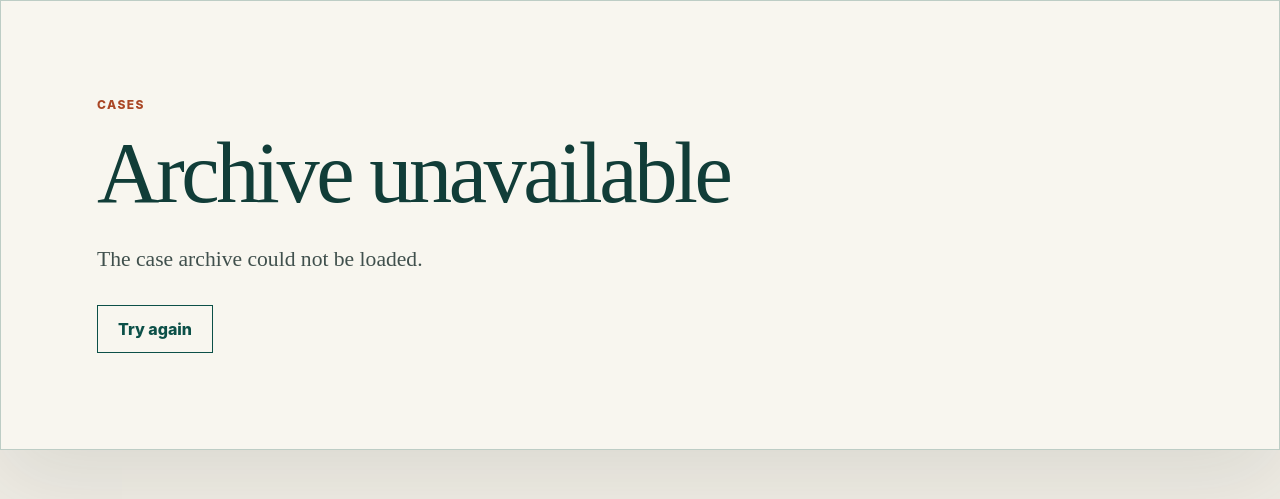
Test: CasesPage › shows error state and retries on failure
Expected: the heading "Archive unavailable" is shown, [97,125,729,221]
Click the button "Try again" at (155, 329), box [97,305,213,353]
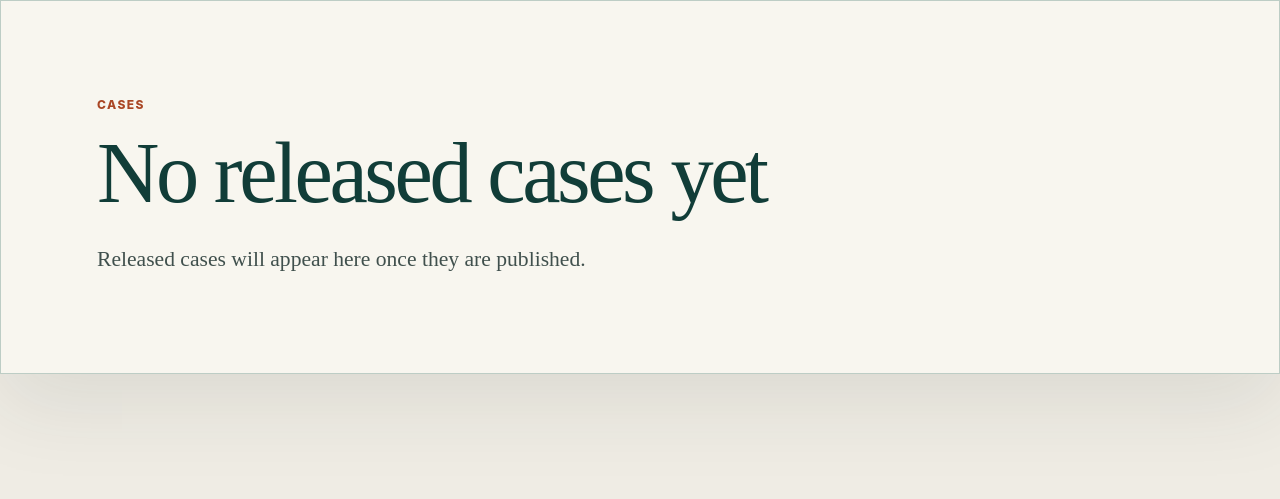
Expected: the heading "No released cases yet" is shown, [97,134,857,214]
